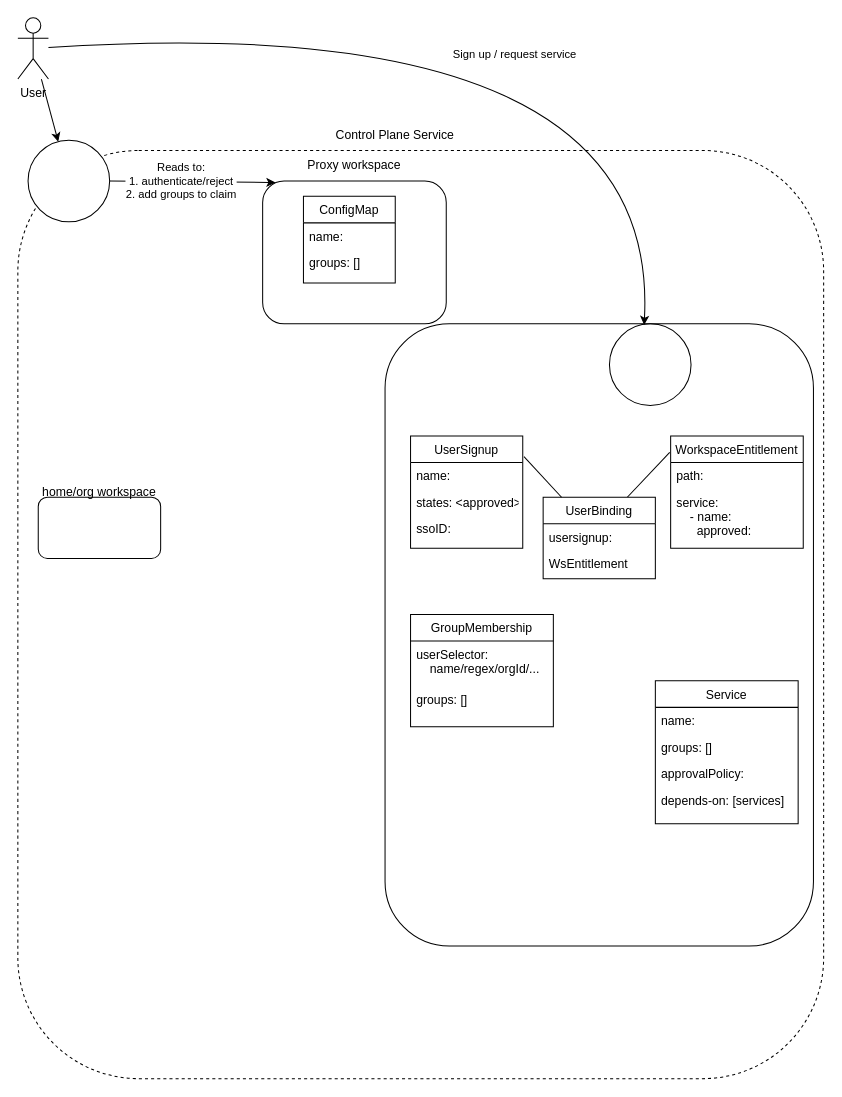
This 842x1097 diagram has some shape labels left out. Each missing label, with the centre of its shape:
"Proxy" goes at [68,180].
"Registration Service" goes at [649,364].
